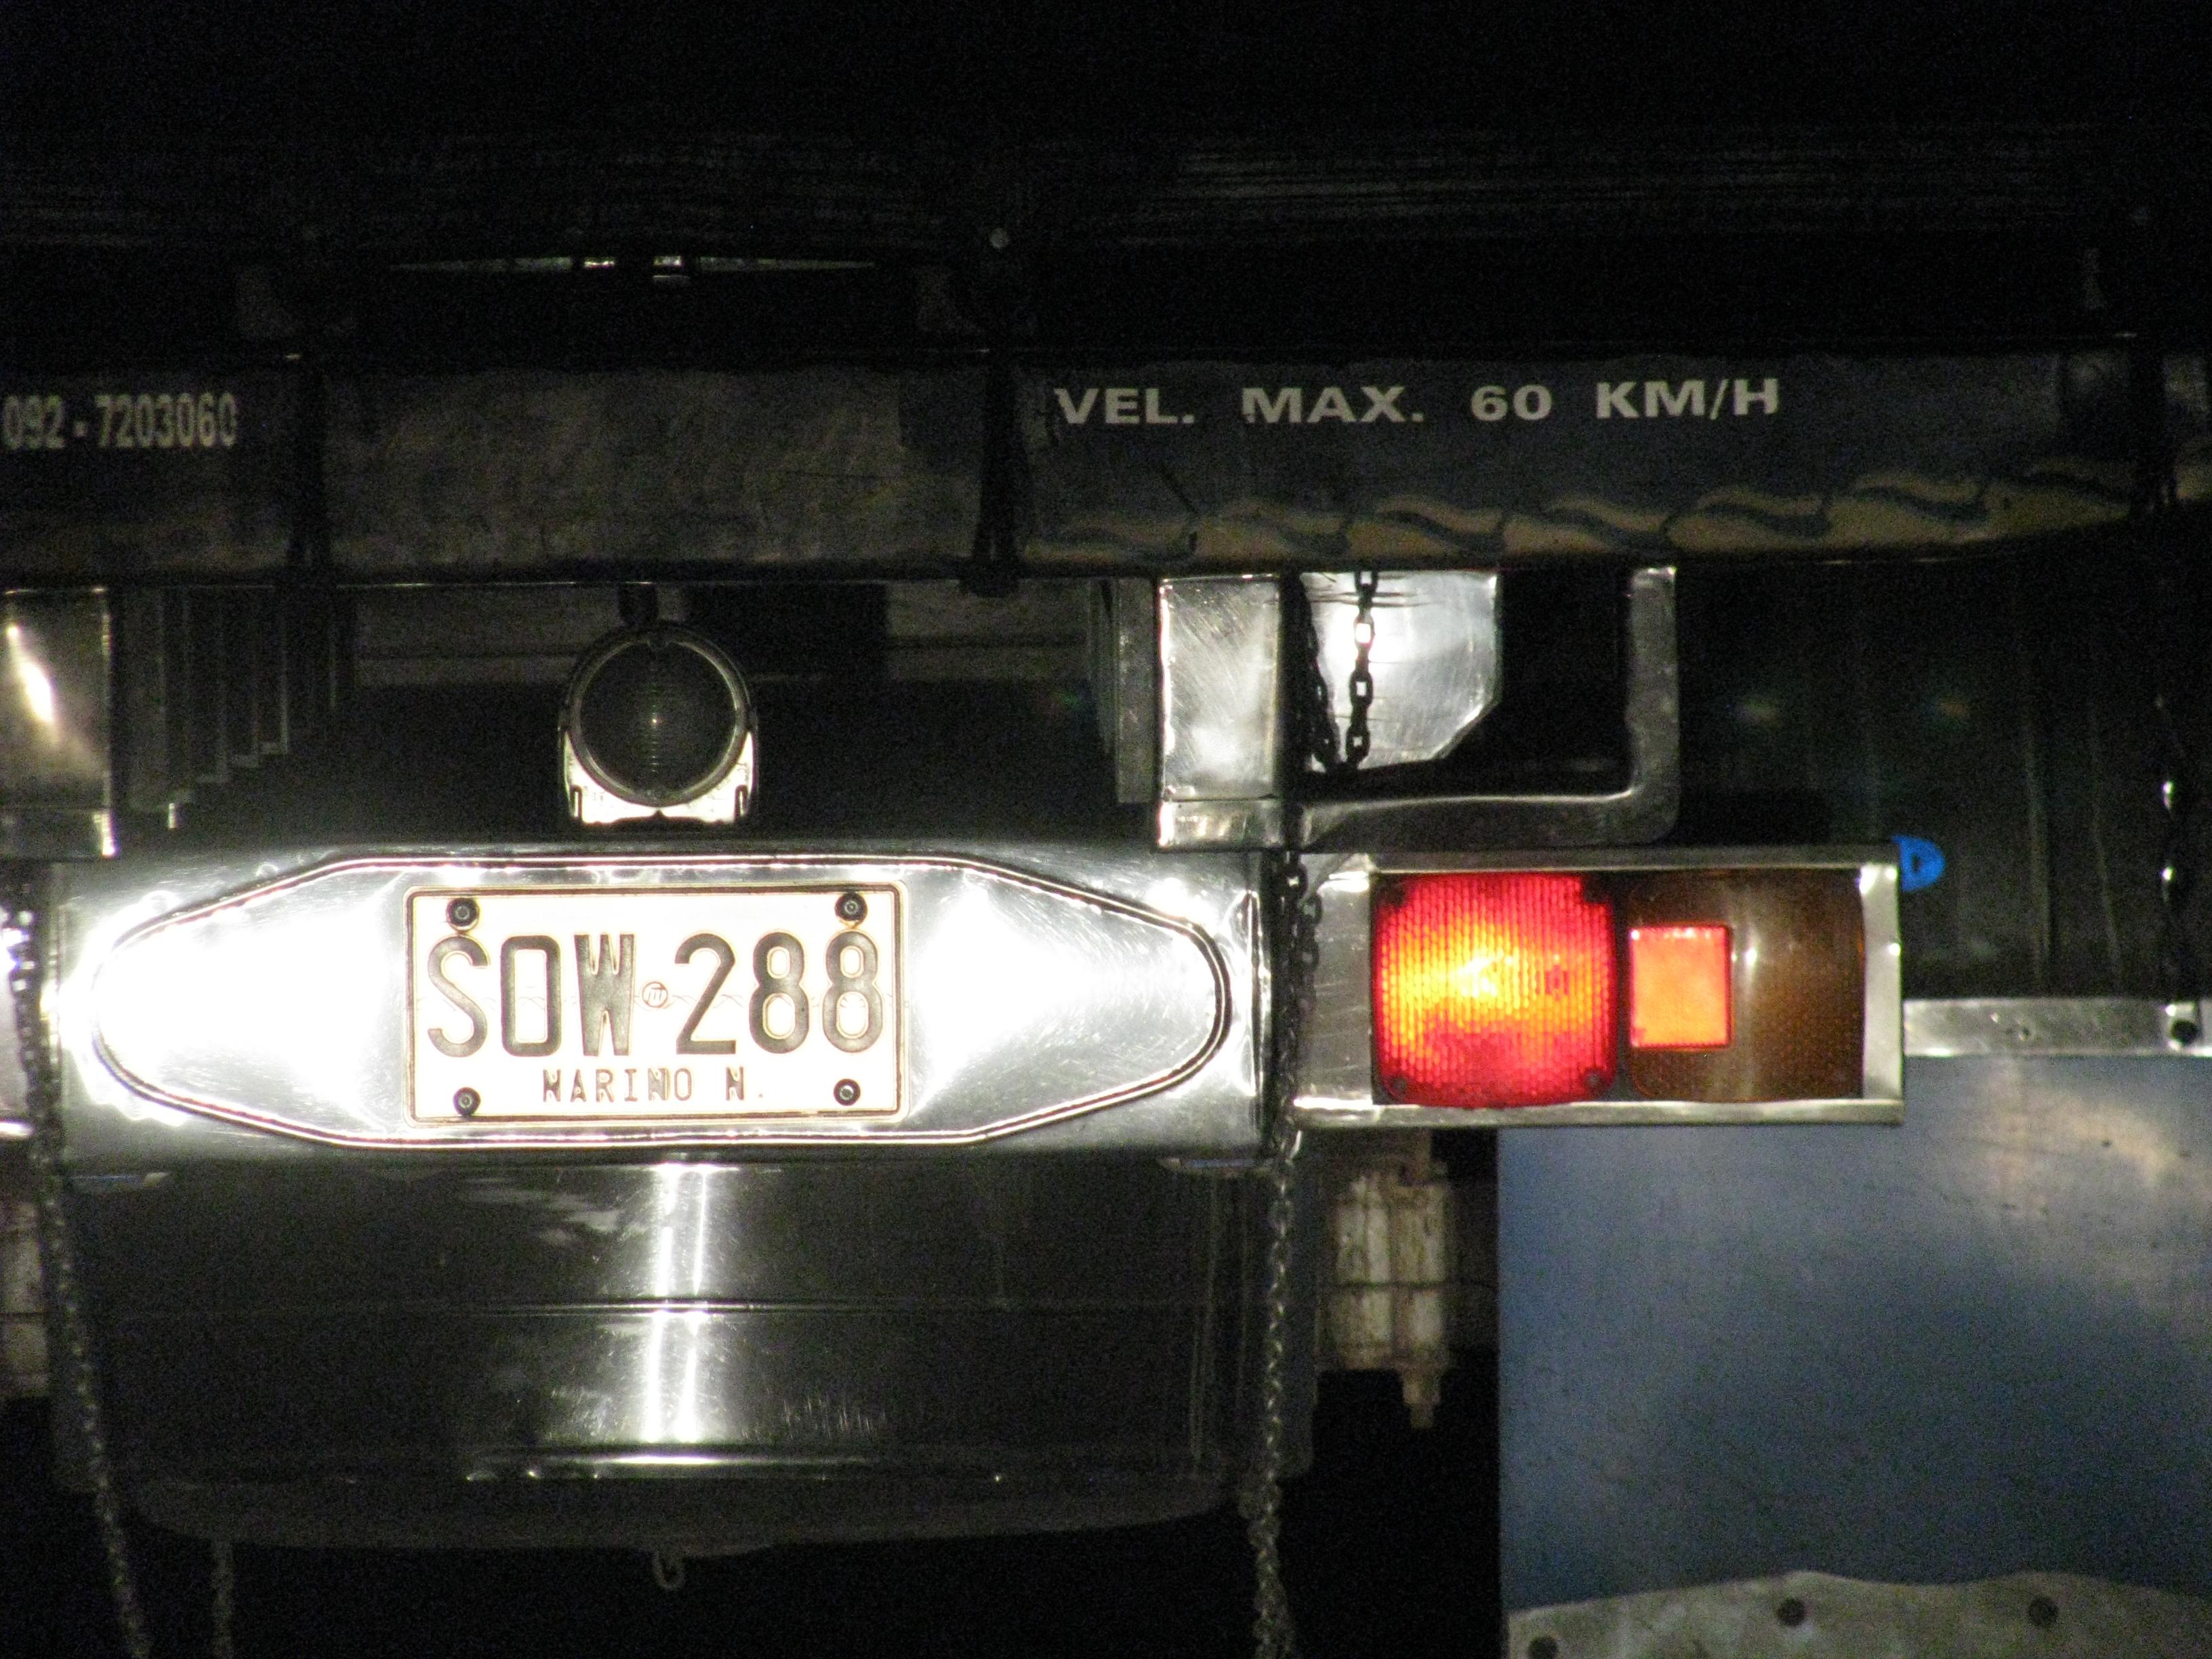placas: (396, 881, 924, 1128)
